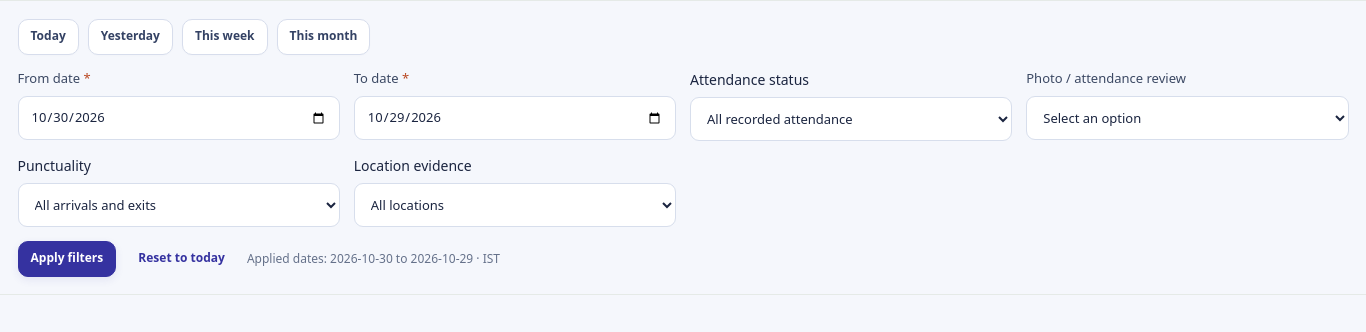
attendance filter controls › prevents reversed ranges and hides unavailable organization lookups
Click the button "Apply filters" at (67, 258), box left=18, top=240, right=116, bottom=276
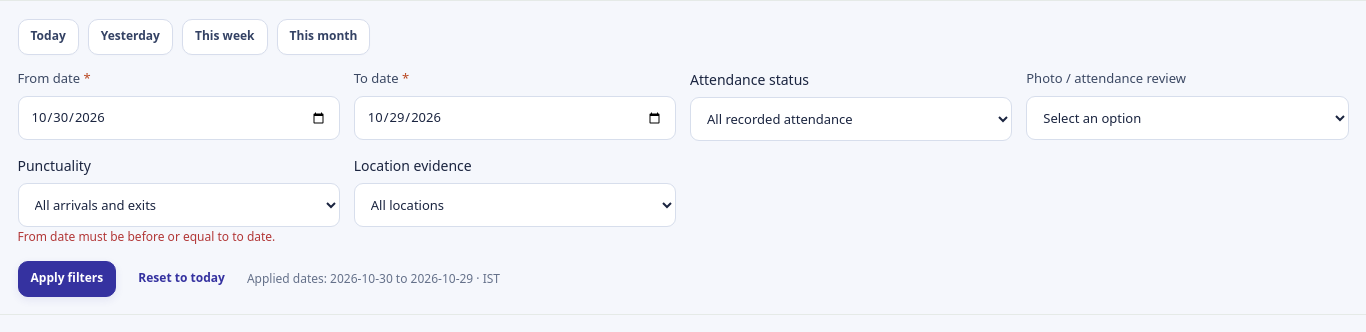
Check: the message shows "From date", box left=18, top=228, right=275, bottom=244
